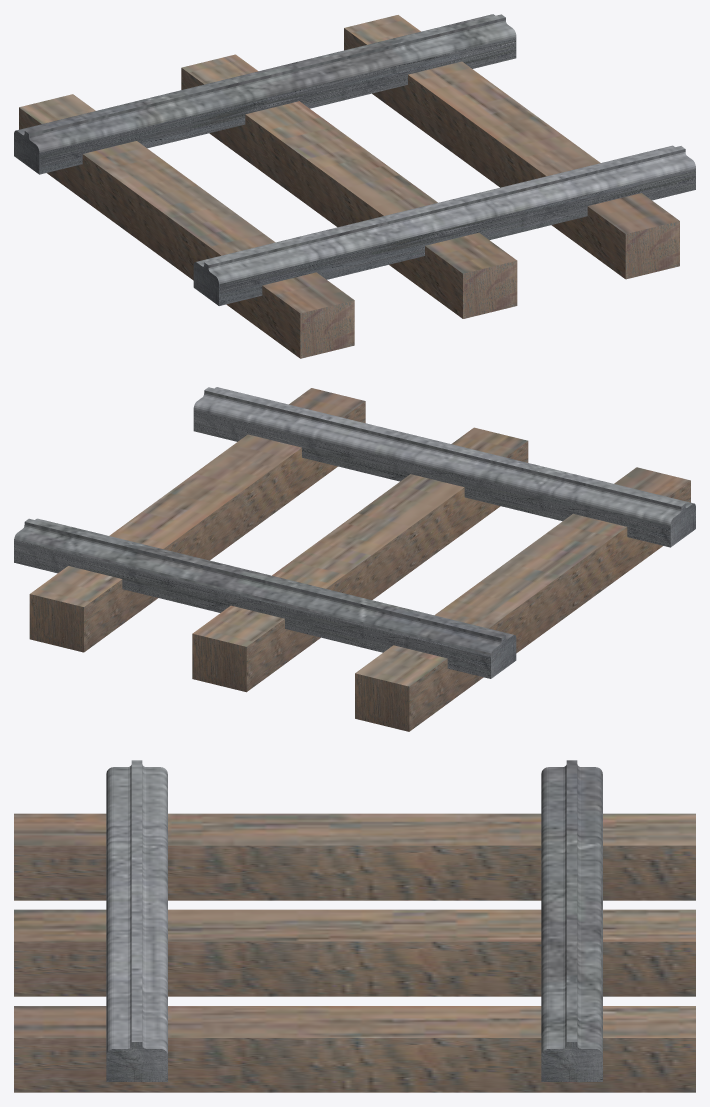
File: rail.glb
3 renders of one model, top to bottom at view 1: azimuth 30°, elevation 25°; view 2: azimuth 150°, elevation 25°; view 3: azimuth 270°, elevation 25°, orthographic. The views are drawn at different scales.
Parts seen in each view (by area): view 1: Rail; view 2: Rail; view 3: Rail.
Boxes of the visible parts, bbox=[...] form: Rail: bbox=[14, 14, 695, 358]; Rail: bbox=[14, 387, 695, 731]; Rail: bbox=[14, 760, 695, 1092].
Bounding box in the file's own units: 4.4 × 0.6032 × 4.5.
1 material, 1 textured.
